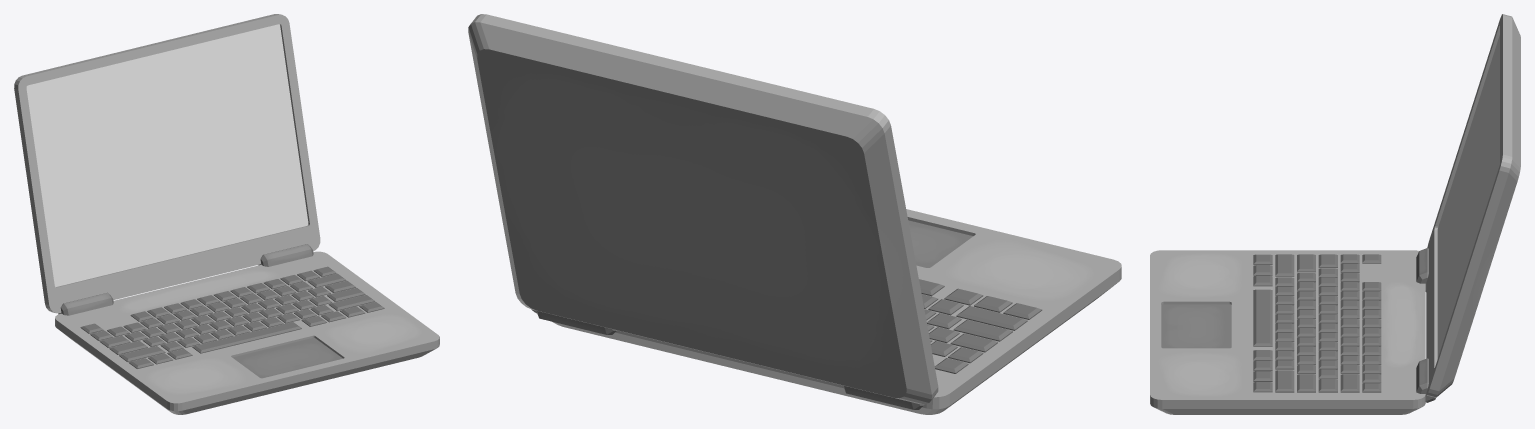
The model's file is Laptop.fbx.
3 views of the same model, side by side, from view 1: azimuth 30°, elevation 25°; view 2: azimuth 150°, elevation 25°; view 3: azimuth 270°, elevation 25° (orthographic). The views are drawn at different scales.
Parts seen in each view (by area): view 1: Laptop; view 2: Laptop; view 3: Laptop.
Boxes of the visible parts, box(x1,y1,x2,y2) form: Laptop: box(14, 14, 439, 414); Laptop: box(468, 14, 1121, 414); Laptop: box(1150, 14, 1520, 414).
Size of the model in its own units: 45.37 by 36.8 by 47.48.
Materials: 2 (1 with a texture image).
